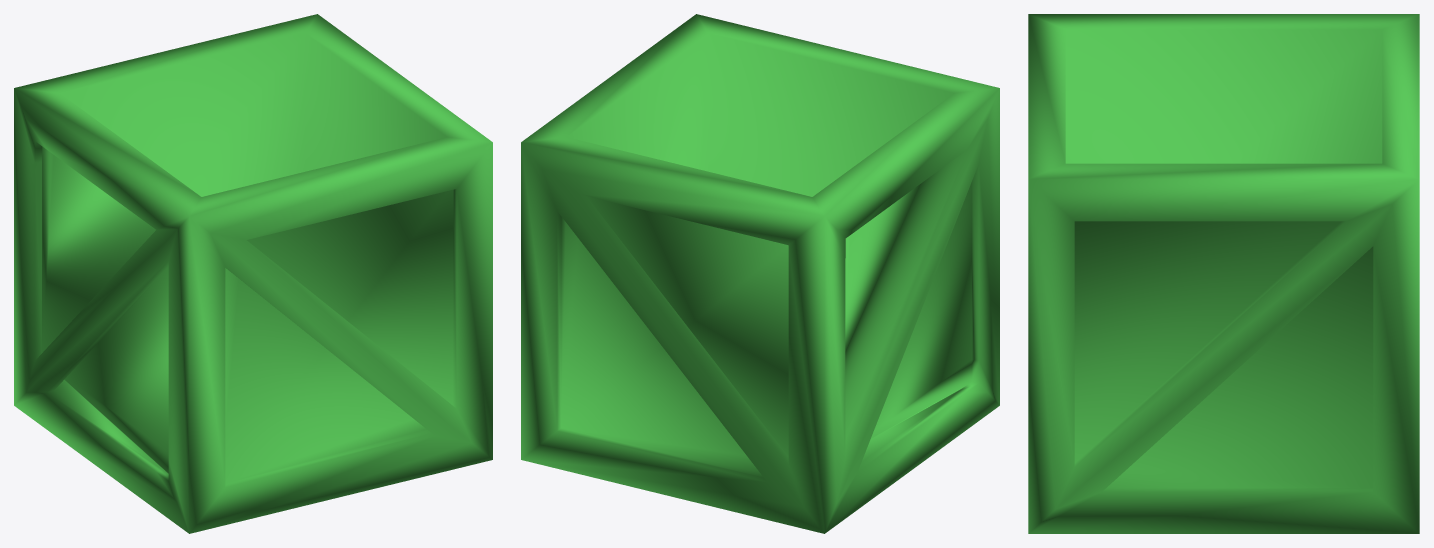
Rendered from OpenCrate.fbx.
3 renders of one model, left to right at view 1: azimuth 30°, elevation 25°; view 2: azimuth 150°, elevation 25°; view 3: azimuth 270°, elevation 25°, orthographic. The views are drawn at different scales.
Visible parts, largest first — view 1: OpenCrate:Box001; view 2: OpenCrate:Box001; view 3: OpenCrate:Box001.
Part boxes in pixels (left/top/right/bottom): OpenCrate:Box001: left=14, top=14, right=492, bottom=533; OpenCrate:Box001: left=521, top=14, right=999, bottom=533; OpenCrate:Box001: left=1028, top=14, right=1419, bottom=533.
Bounding box in the file's own units: 10.49 × 10.49 × 10.49.
